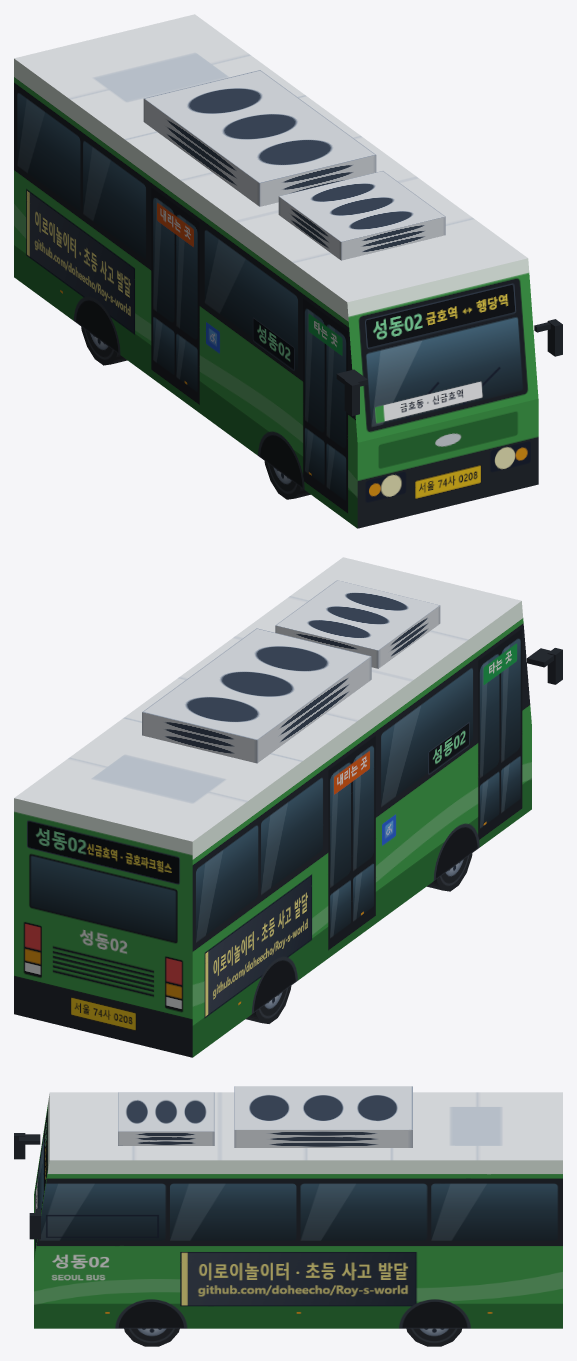
Rendered from bus_성동02.glb.
The picture shows the model from 3 angles, top to bottom: view 1: azimuth 30°, elevation 25°; view 2: azimuth 150°, elevation 25°; view 3: azimuth 270°, elevation 25°; orthographic projection. The views are drawn at different scales.
Visible parts, largest first — view 1: SeoulBus_town_성동02; view 2: SeoulBus_town_성동02; view 3: SeoulBus_town_성동02.
Part boxes in pixels (<box>): SeoulBus_town_성동02: <box>14,14,562,528</box>; SeoulBus_town_성동02: <box>14,557,562,1057</box>; SeoulBus_town_성동02: <box>14,1086,562,1346</box>.
Size of the model in its own units: 2.75 by 3.17 by 7.68.
1 material, 1 textured.
